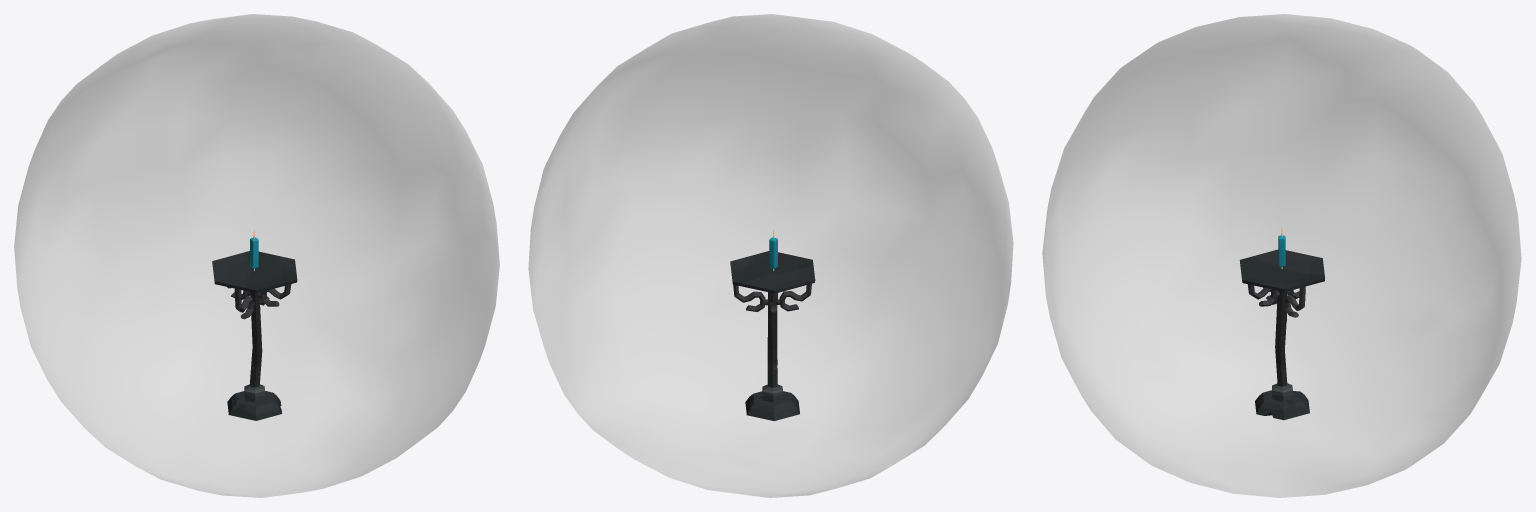
Rendered from japaneseTallComplete.glb.
3 views of the same model, side by side, from view 1: azimuth 30°, elevation 25°; view 2: azimuth 150°, elevation 25°; view 3: azimuth 270°, elevation 25° (orthographic).
Parts seen in each view (by area): view 1: Room, Candle_Stand; view 2: Room, Candle_Stand; view 3: Room, Candle_Stand.
Part boxes in pixels (x1,y1,x2,y2): Room: (14, 14, 499, 497); Candle_Stand: (212, 251, 297, 420); Room: (528, 14, 1013, 497); Candle_Stand: (730, 251, 815, 421); Room: (1042, 14, 1521, 497); Candle_Stand: (1239, 249, 1324, 420).
Bounding box in the file's own units: 24.43 × 24.43 × 24.44.
Materials: 5 (2 with a texture image).
